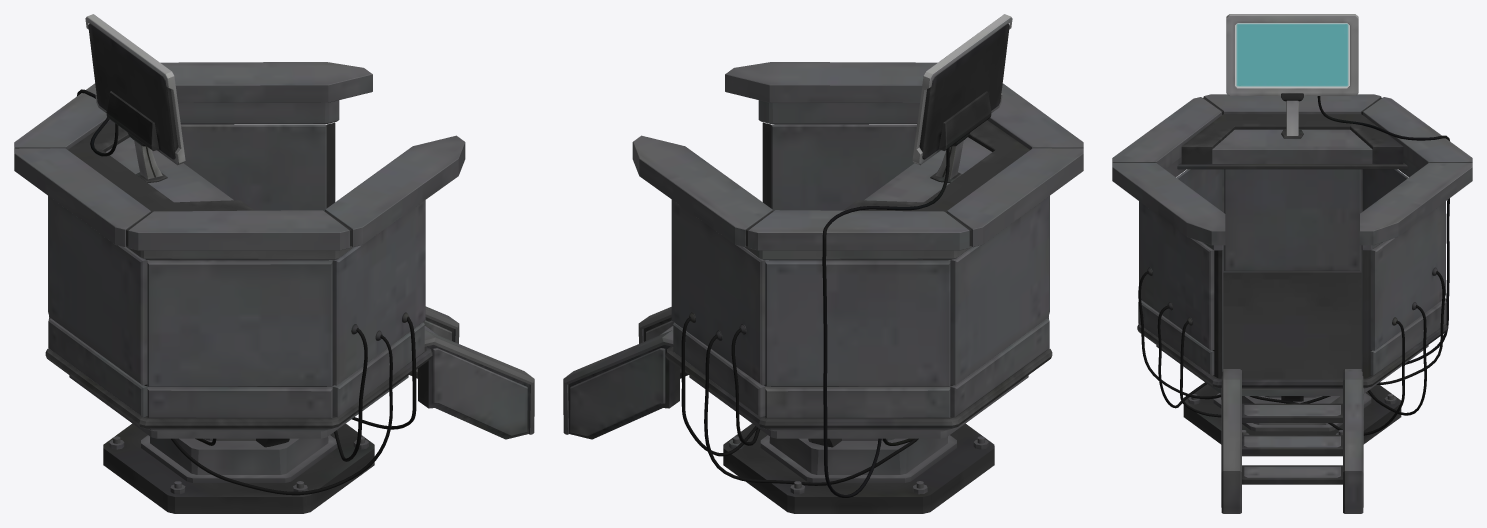
The model's file is SM_SurveillanceTableAdvanced_185924.glb.
3 views of the same model, side by side, from view 1: azimuth 30°, elevation 25°; view 2: azimuth 150°, elevation 25°; view 3: azimuth 270°, elevation 25° (orthographic). The views are drawn at different scales.
Size of the model in its own units: 2.2 by 2.2 by 2.
Materials: 2 (2 with a texture image).
